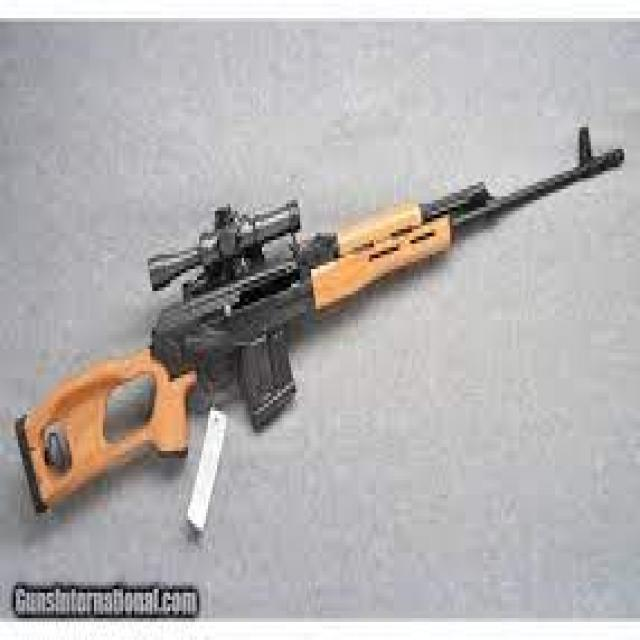weapon: (13, 125, 625, 514)
